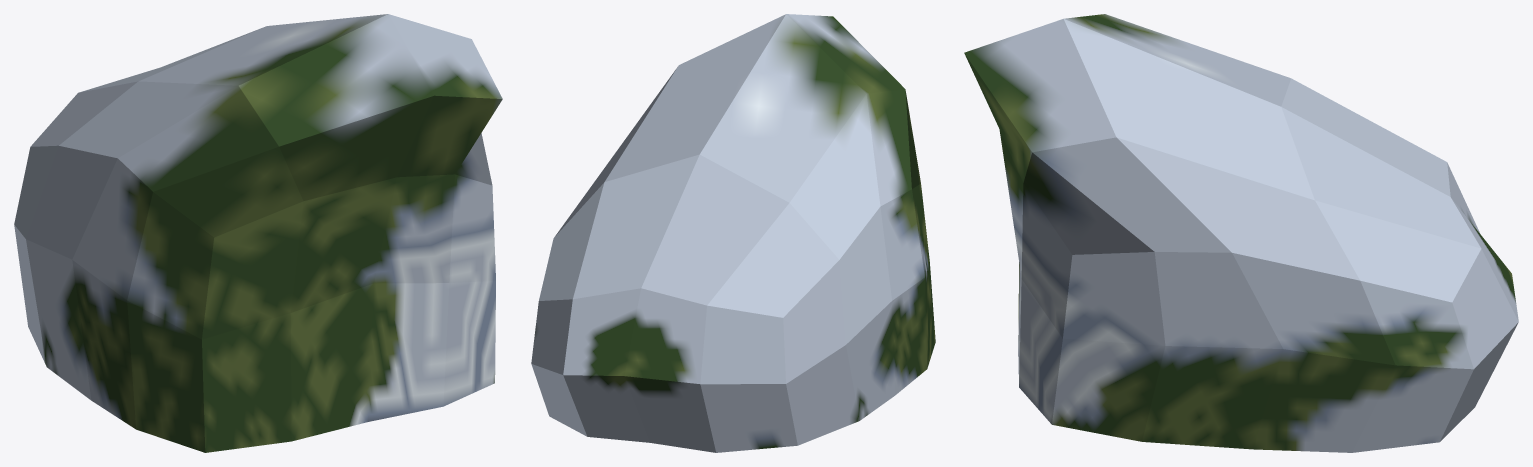
File: Pedra3.fbx
3 views of the same model, side by side, from view 1: azimuth 30°, elevation 25°; view 2: azimuth 150°, elevation 25°; view 3: azimuth 270°, elevation 25° (orthographic). The views are drawn at different scales.
Visible parts, largest first — view 1: Pedra3; view 2: Pedra3; view 3: Pedra3.
Part boxes in pixels (x1,y1,x2,y2): Pedra3: (14,14,502,452); Pedra3: (531,14,935,452); Pedra3: (964,14,1518,452).
Size of the model in its own units: 70.92 by 96.88 by 72.26.
